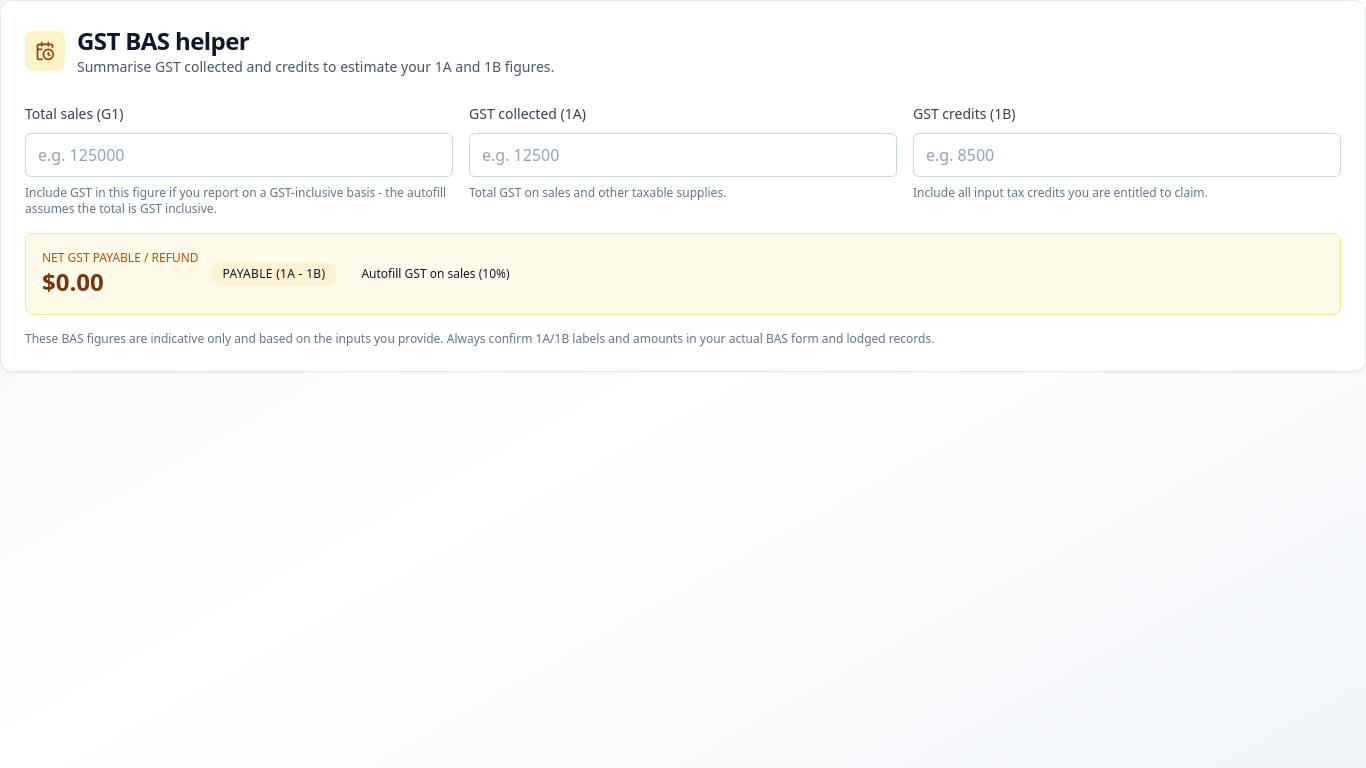
Scenario: GstBasHelper › autofills GST on sales using inclusive-extraction math
Note: $11,000 GST-inclusive at 10% → $1,000 GST component
In the field labelled "Total sales (G1)": (239, 155) [25,133,453,177], type "11000"
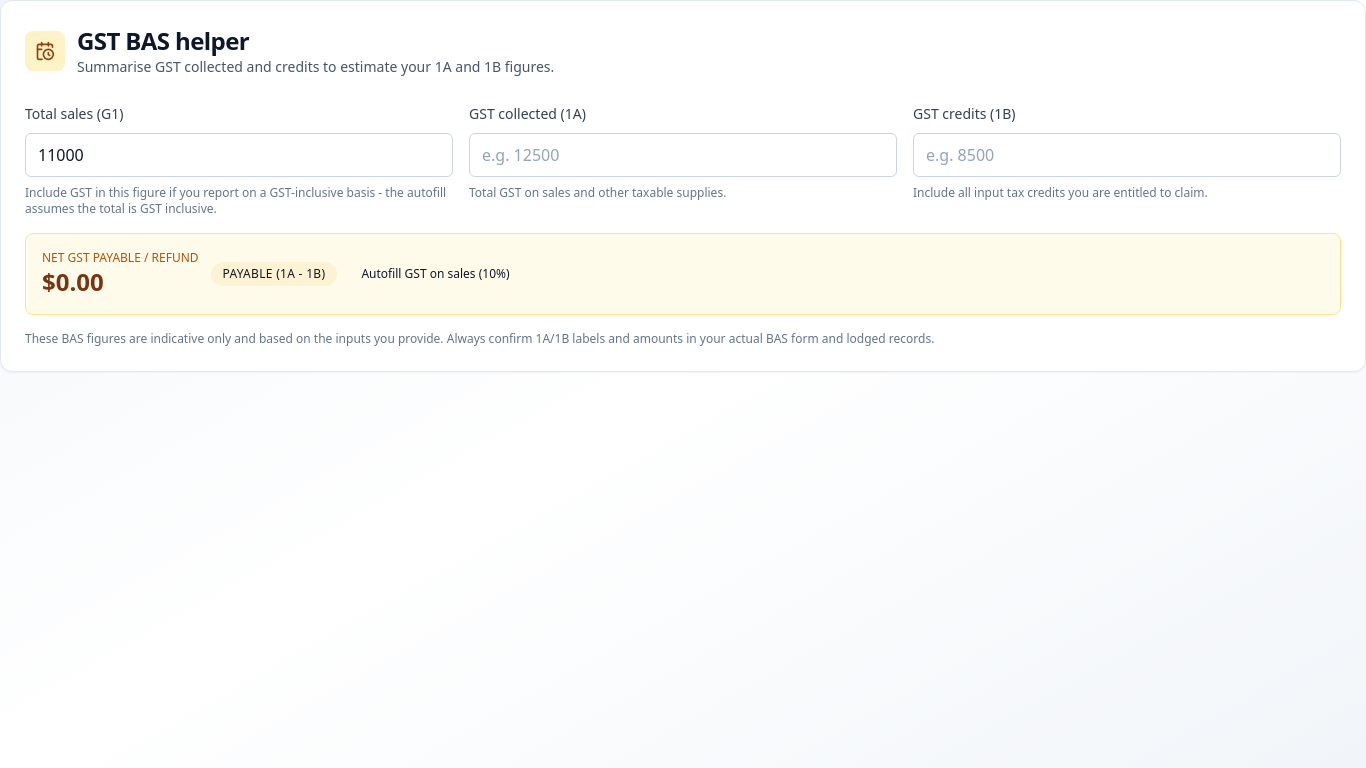
In the field labelled "GST collected (1A)": (683, 155) [469,133,897,177], type "0"
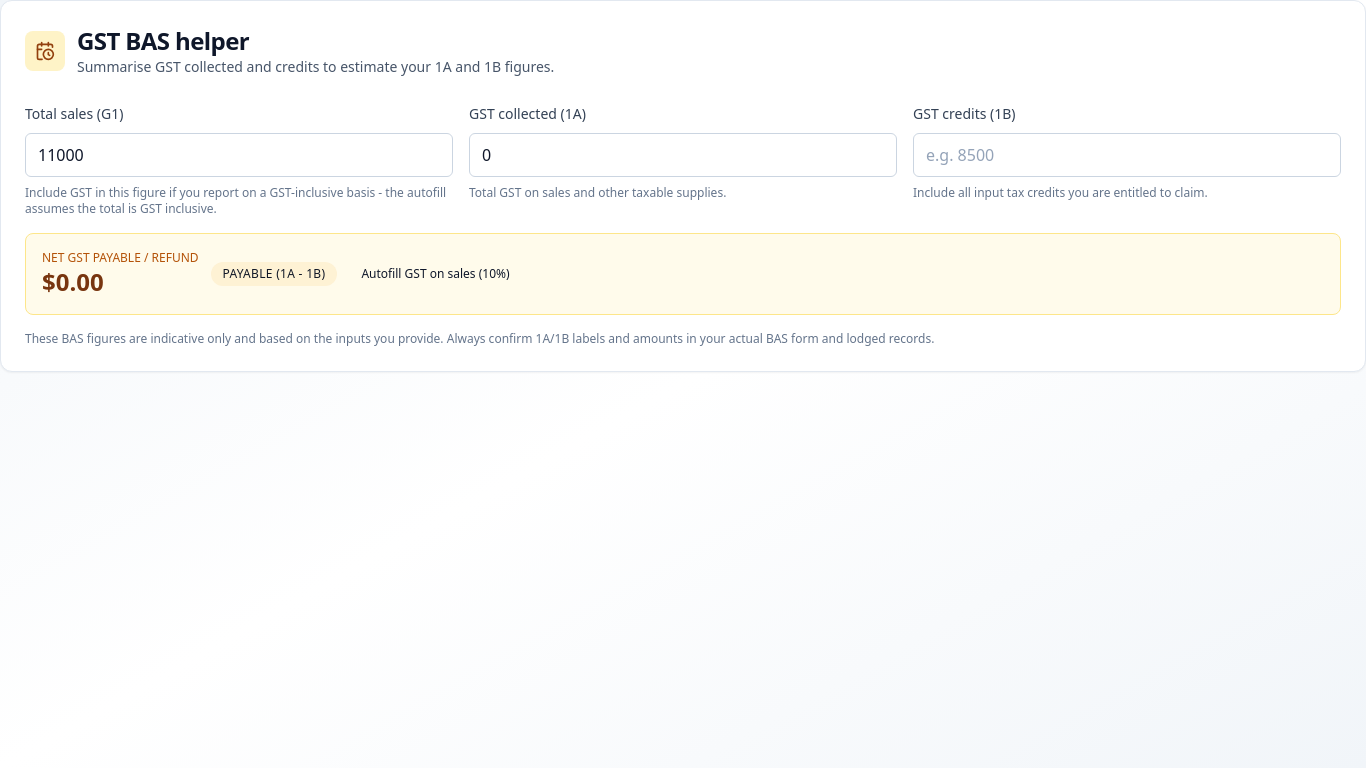
In the field labelled "GST credits (1B)": (1127, 155) [913,133,1341,177], type "0"
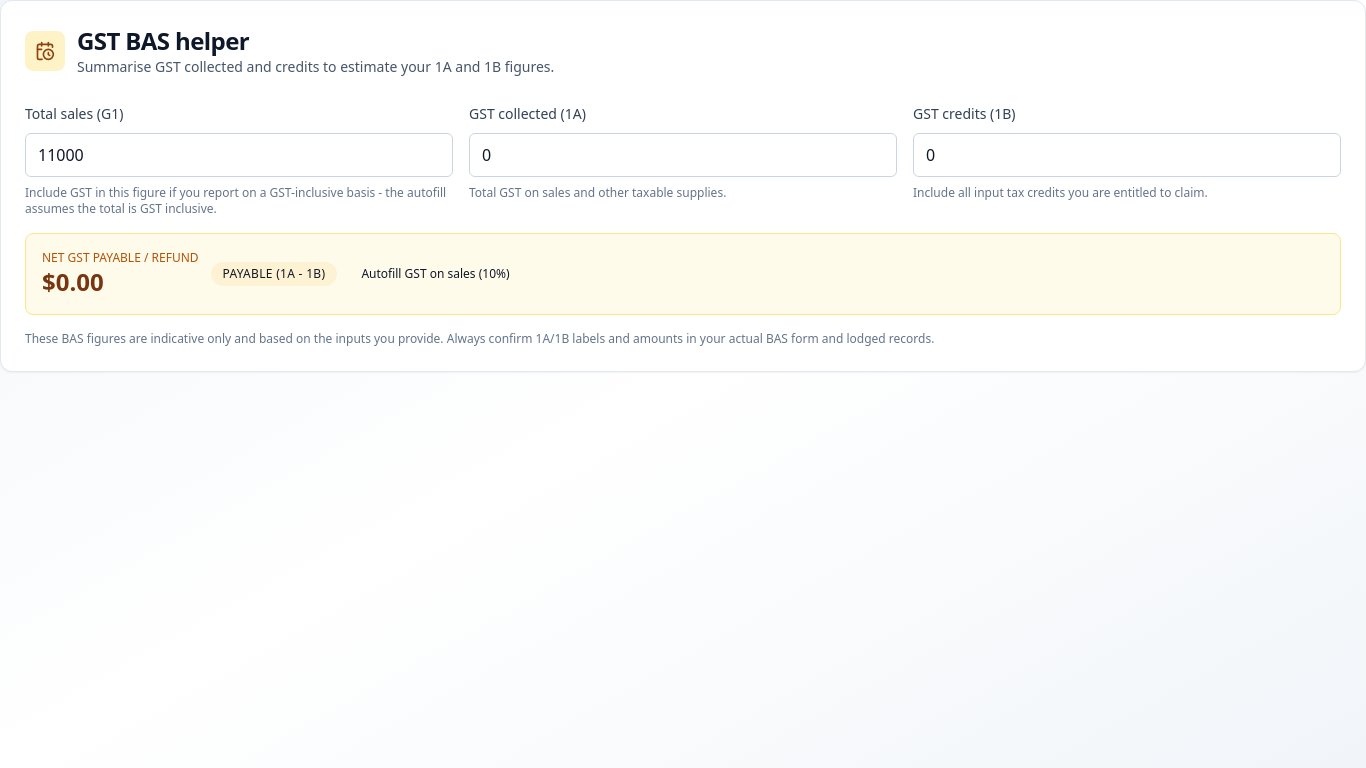
Click the button "Autofill GST on sales (10%)": click(436, 274) [349,258,522,290]
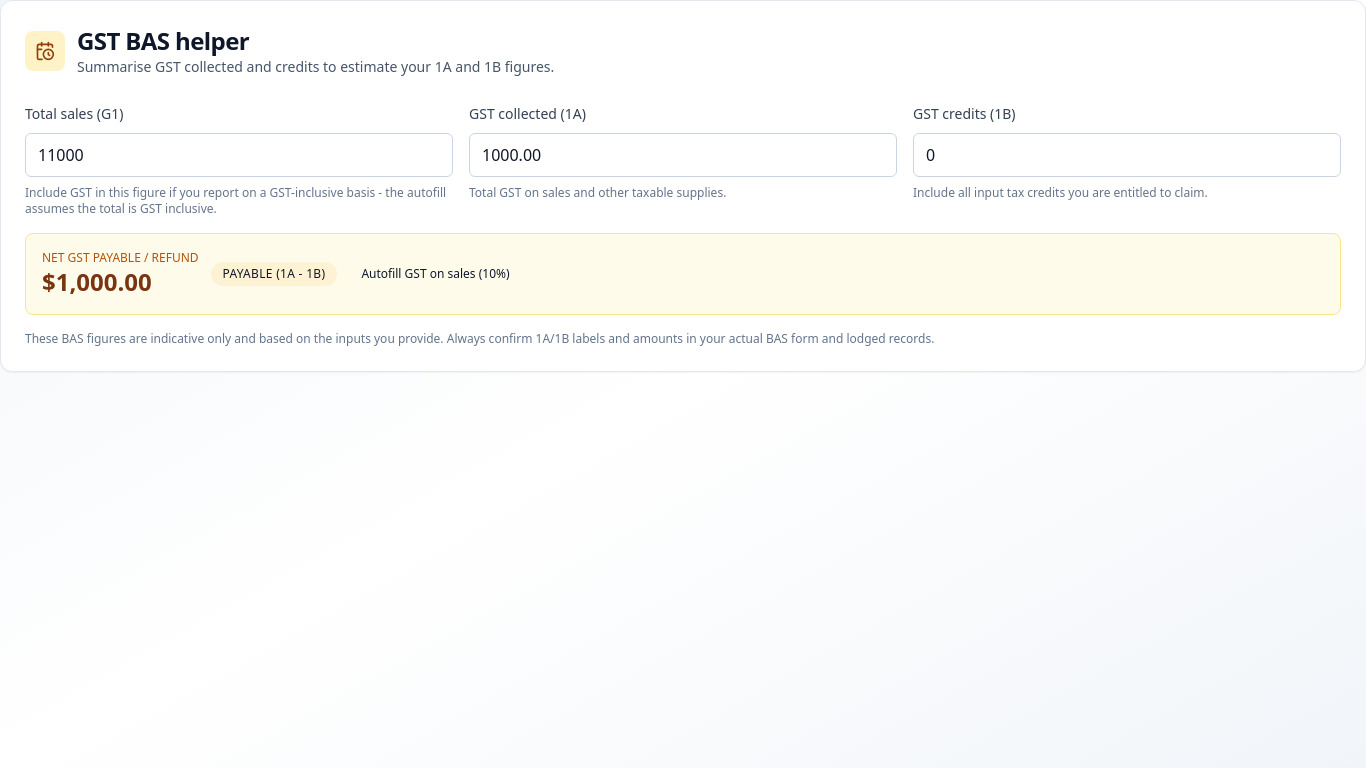
expect the text "$1,000.00" is shown: met, box [42,265,152,298]
